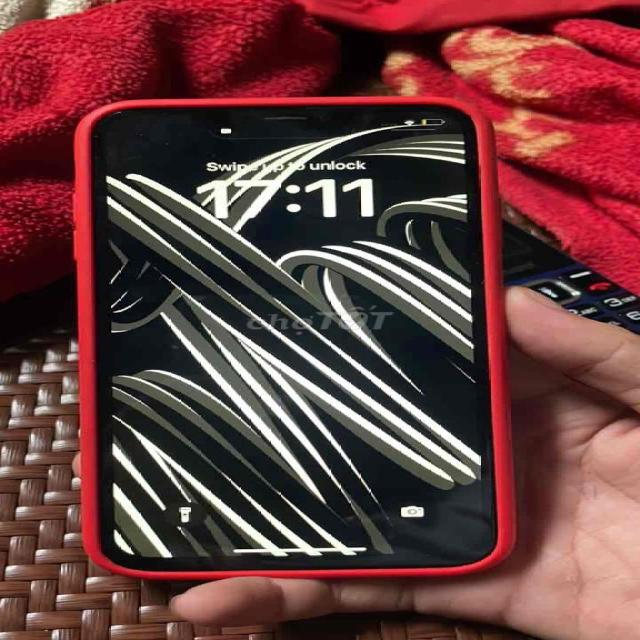scratch: (94, 103, 164, 142)
